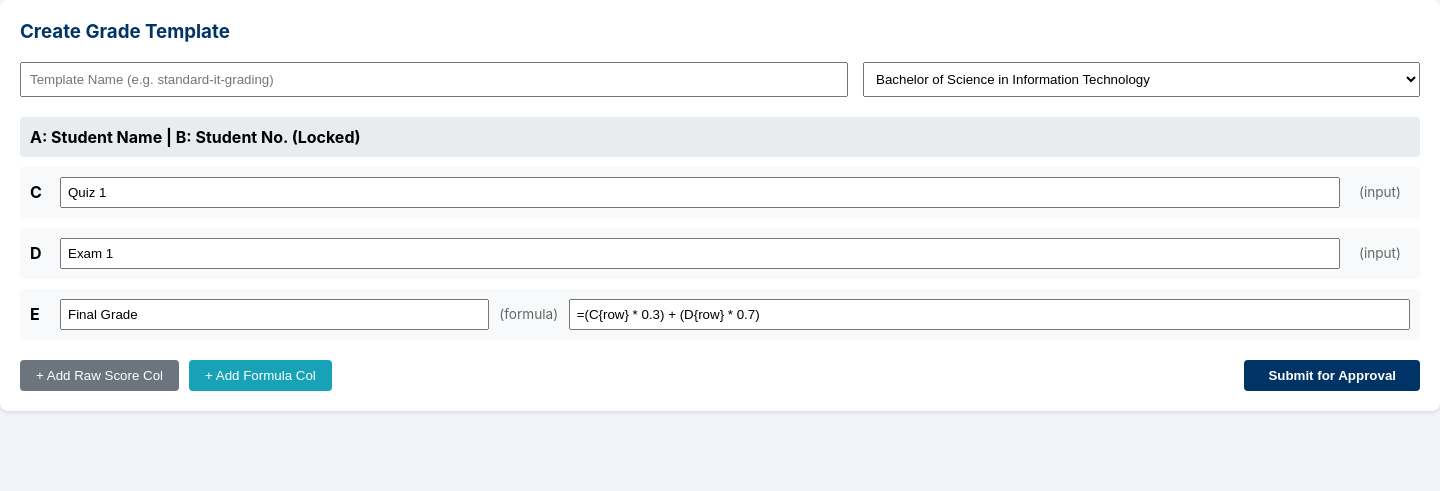
Test case: FormulaBuilder Component › adds a new raw score column correctly
This screenshot has width=1440, height=491.
Step 1. Click the button "+ Add Raw Score Col" → {"x": 100, "y": 375}, box 20,360 -> 179,391
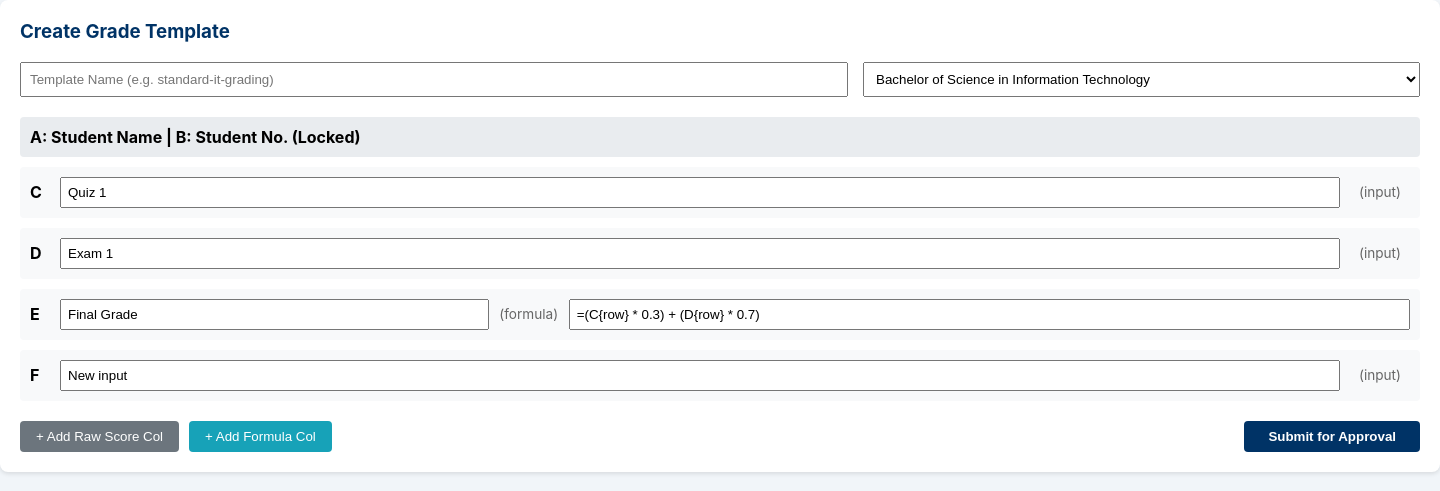
Check: the text "F" is shown, box 30,365 -> 39,385
Check: the 5th field showing "New input" is shown, box 60,360 -> 1340,391
